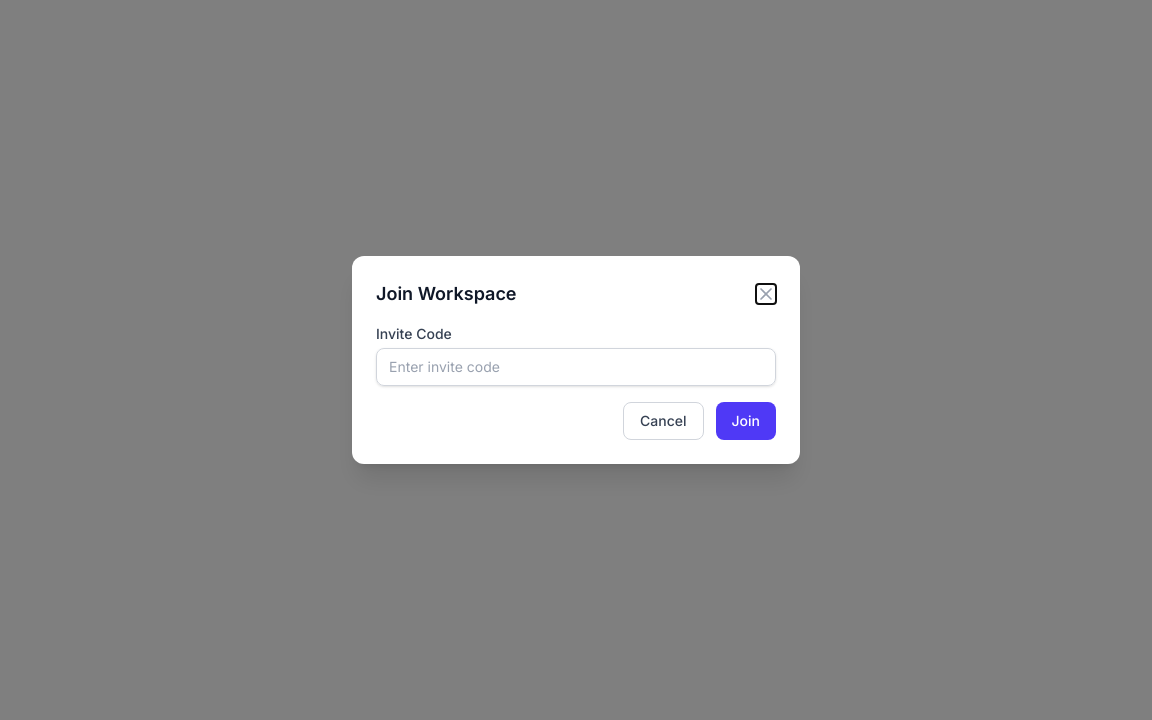
Test: JoinWorkspaceModal › joins workspace on submit
Step 1. Type "ABC123" into the field labelled "Invite Code" → (576,367), box [376,348,776,386]
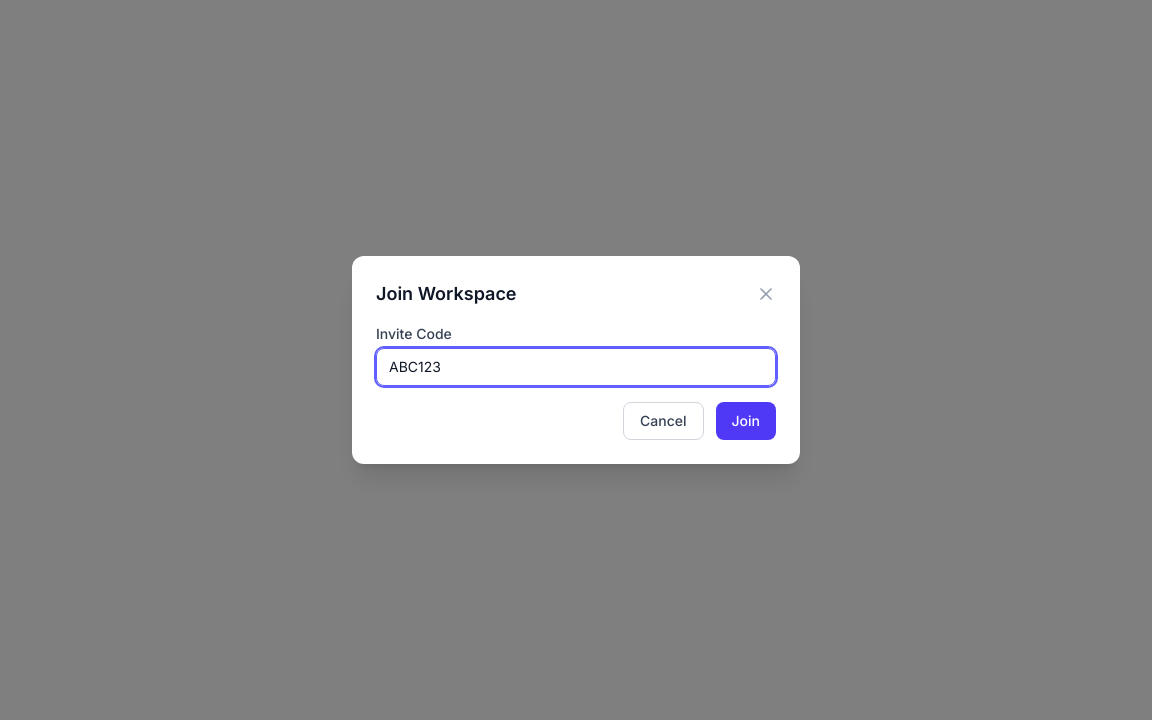
Step 2. Click the button "Join" → (746,421), box [716,402,776,440]
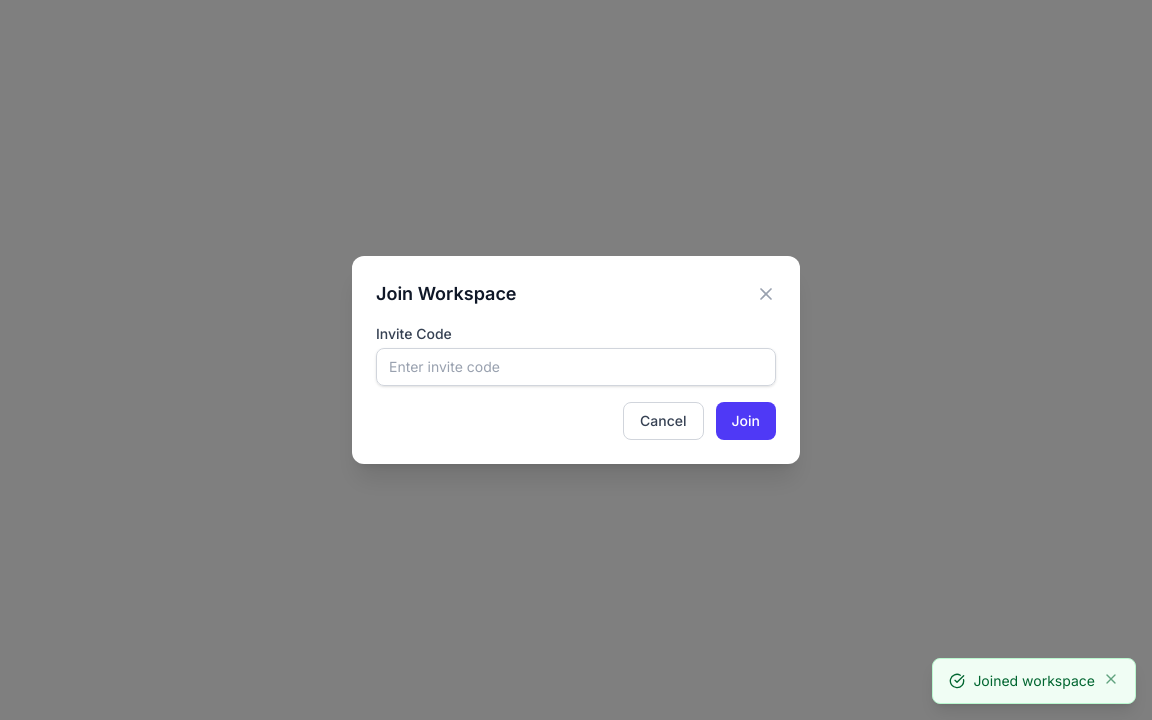
Result: the text "Joined workspace" is shown at [973,671,1095,691]
